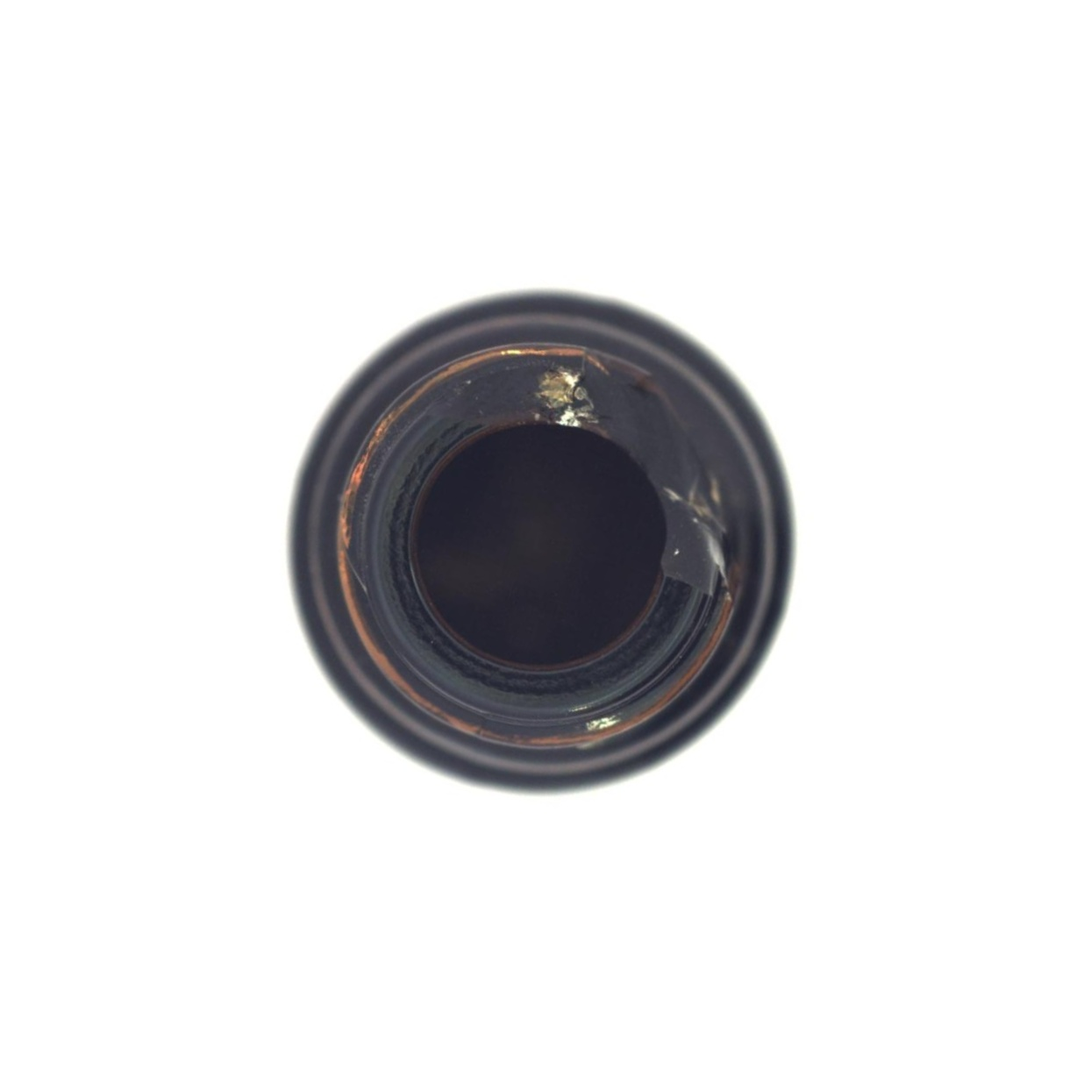bad-broken_large: (54, 51, 1038, 1036)
